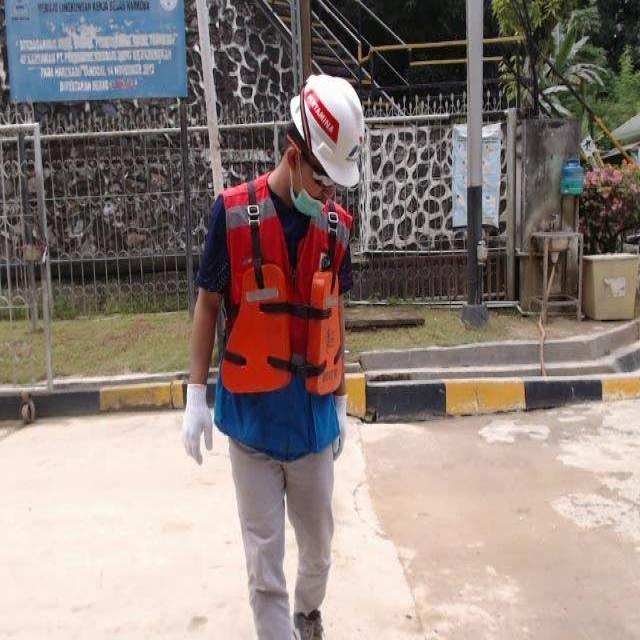Vest: (220, 262, 341, 398)
